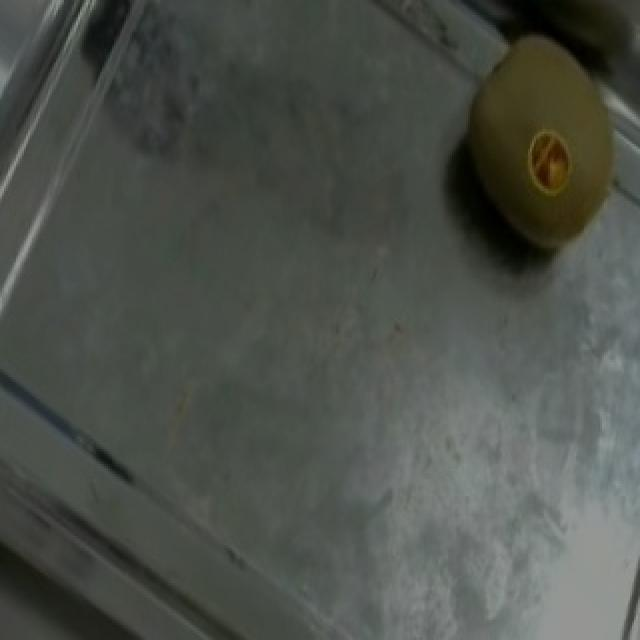Fruit: (412, 5, 640, 290)
